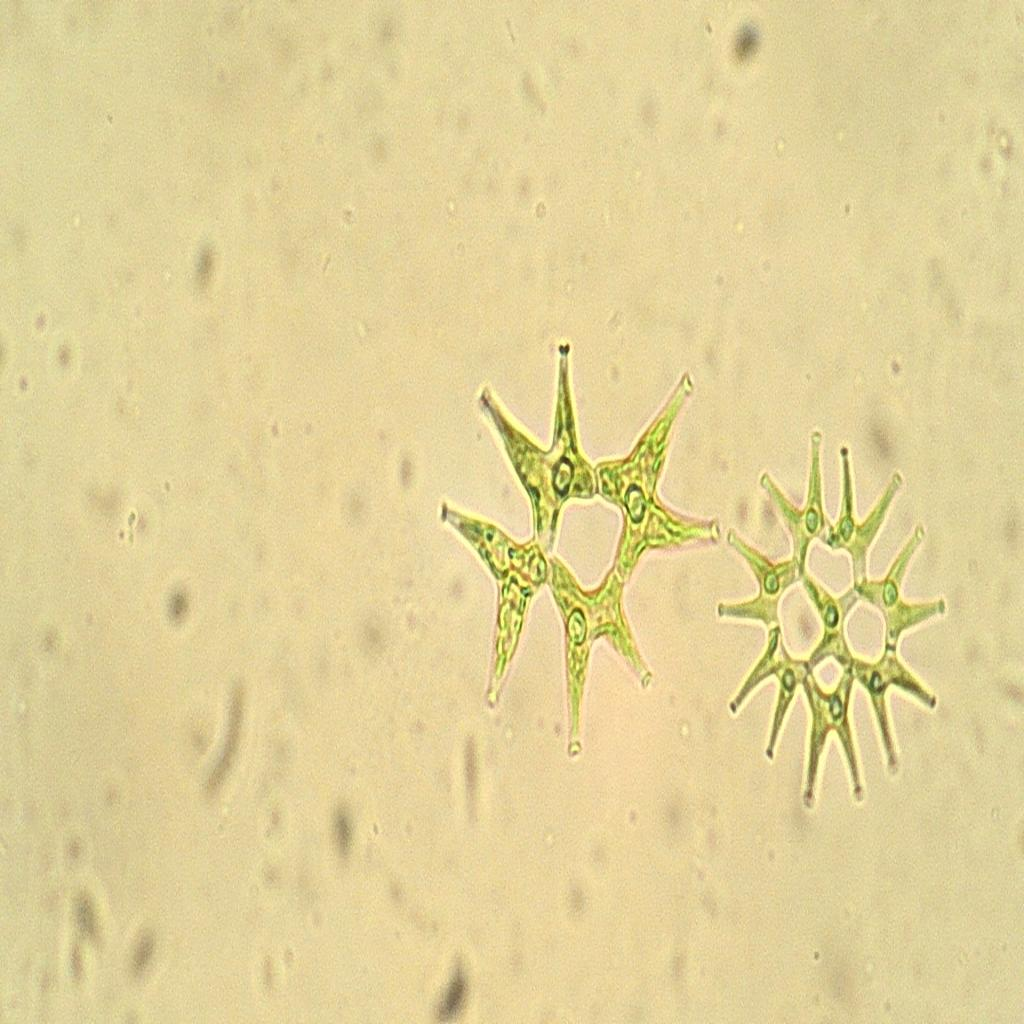Pediastrum_75FI: (433, 324, 727, 764)
